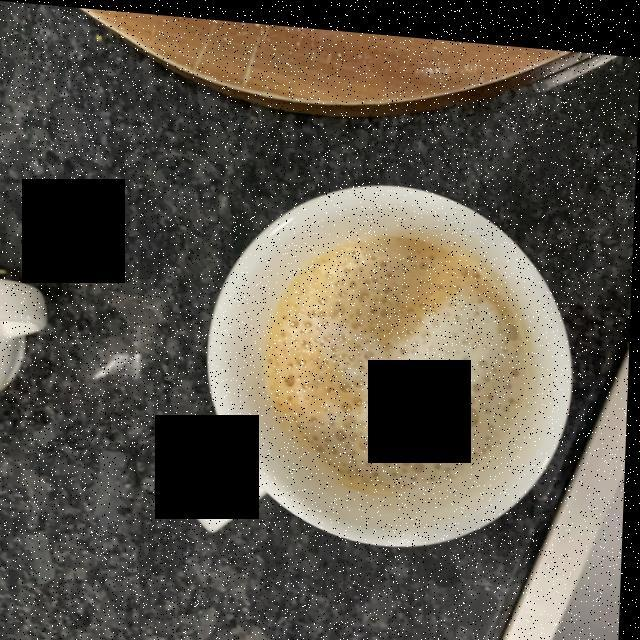coffee: (271, 232, 531, 485)
